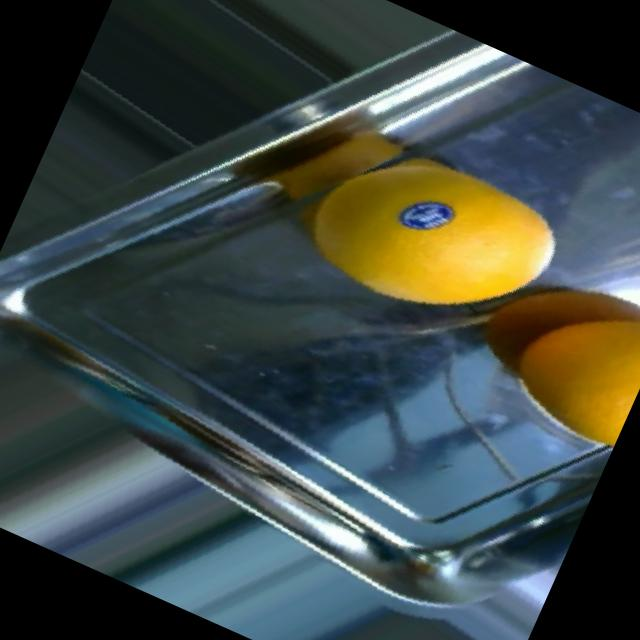Fruit: (409, 216, 640, 482)
